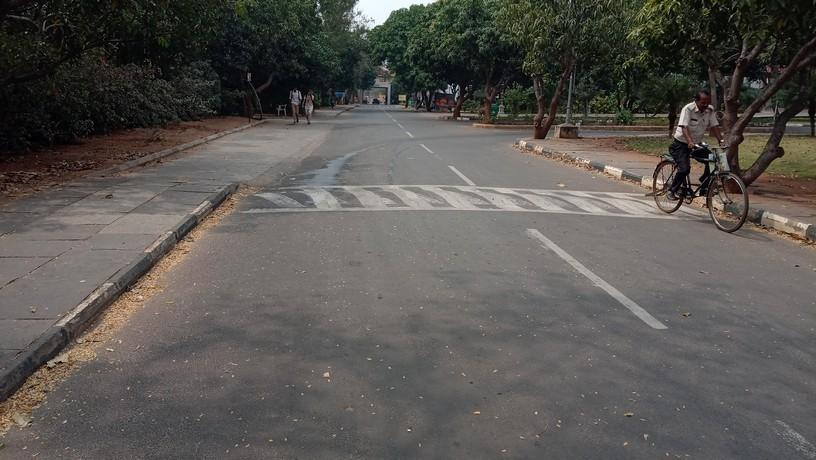speed-bump: (233, 186, 666, 220)
